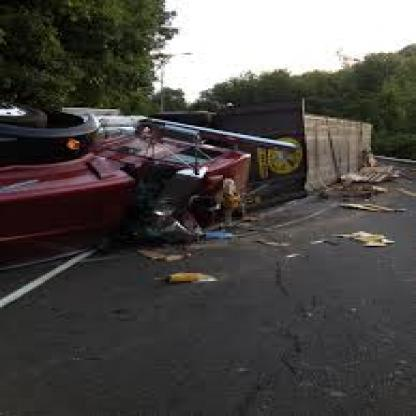accident: (0, 102, 399, 250)
